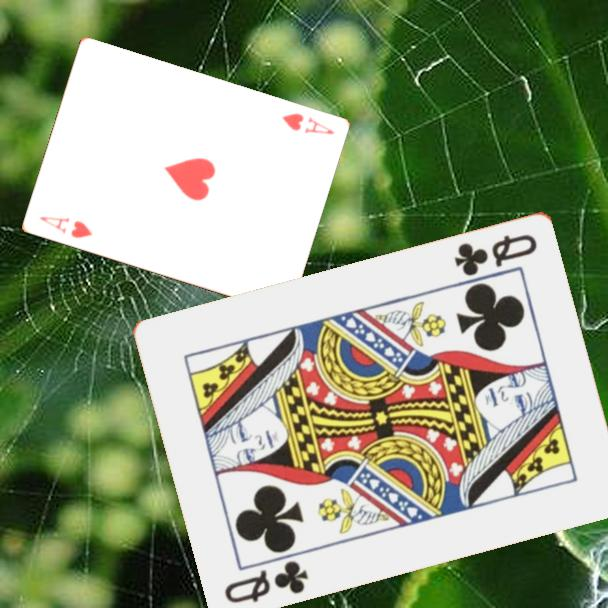c12: (221, 556, 312, 606), (451, 230, 541, 279)
h01: (36, 213, 95, 242), (278, 110, 337, 138)
